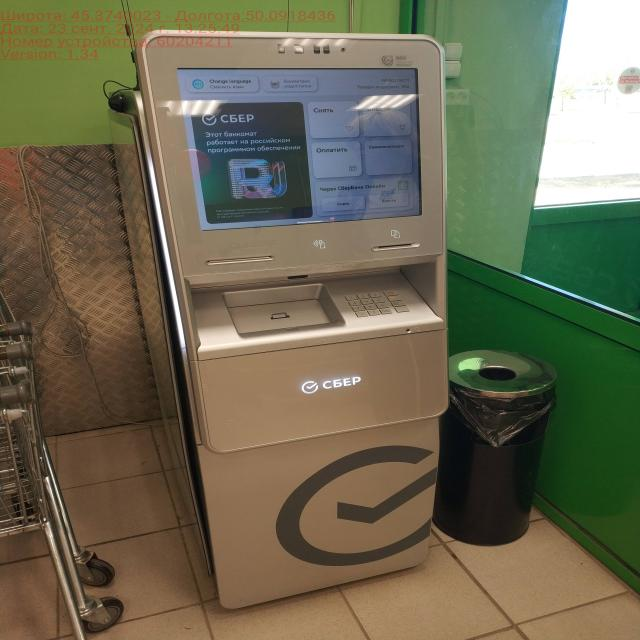bank: (108, 27, 452, 611)
